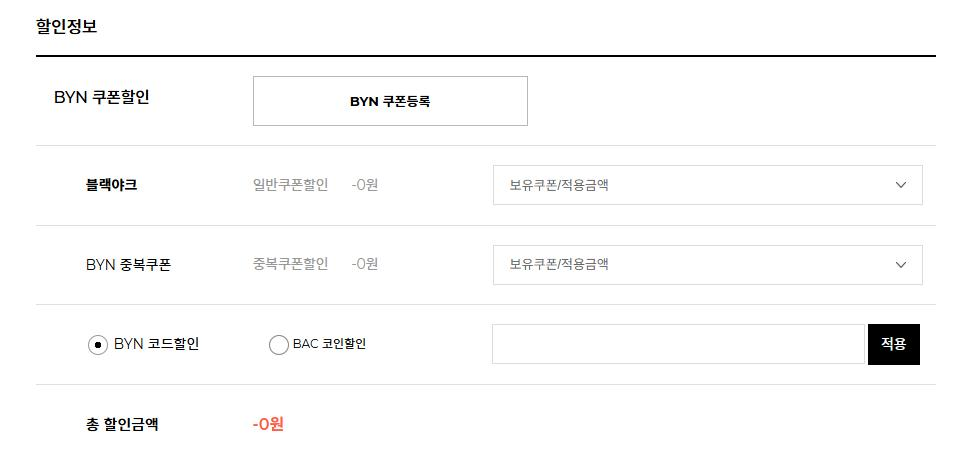button: (254, 75, 528, 124), (869, 323, 920, 365)
checkbox: (493, 245, 925, 284), (494, 167, 921, 203), (77, 330, 212, 365), (257, 327, 387, 362)
input_field: (492, 322, 865, 364)
